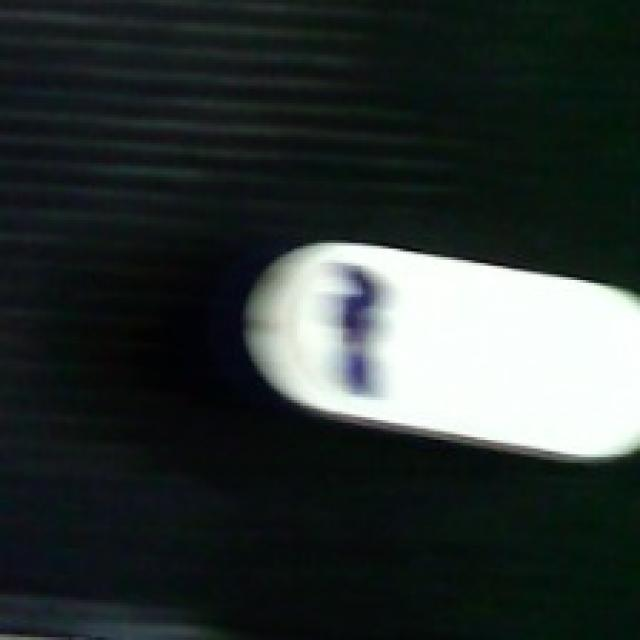defected: (234, 240, 637, 466)
